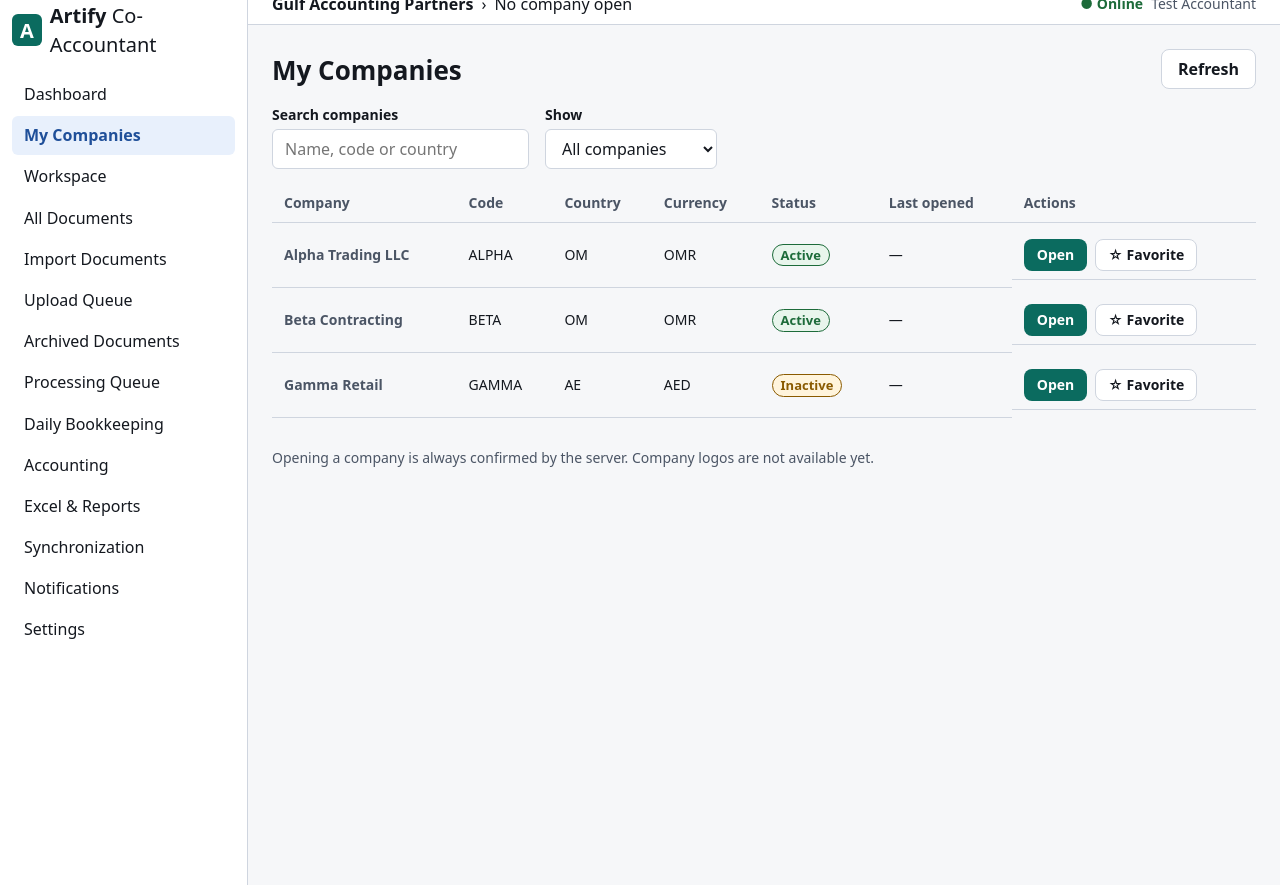
Test: accounting (Phase 8) › does not offer approval to the preparer and lets the server's refusal reach the screen
Click the button with aria-label "Open Alpha Trading LLC".
click(1056, 255)  # box [1024,239,1087,271]
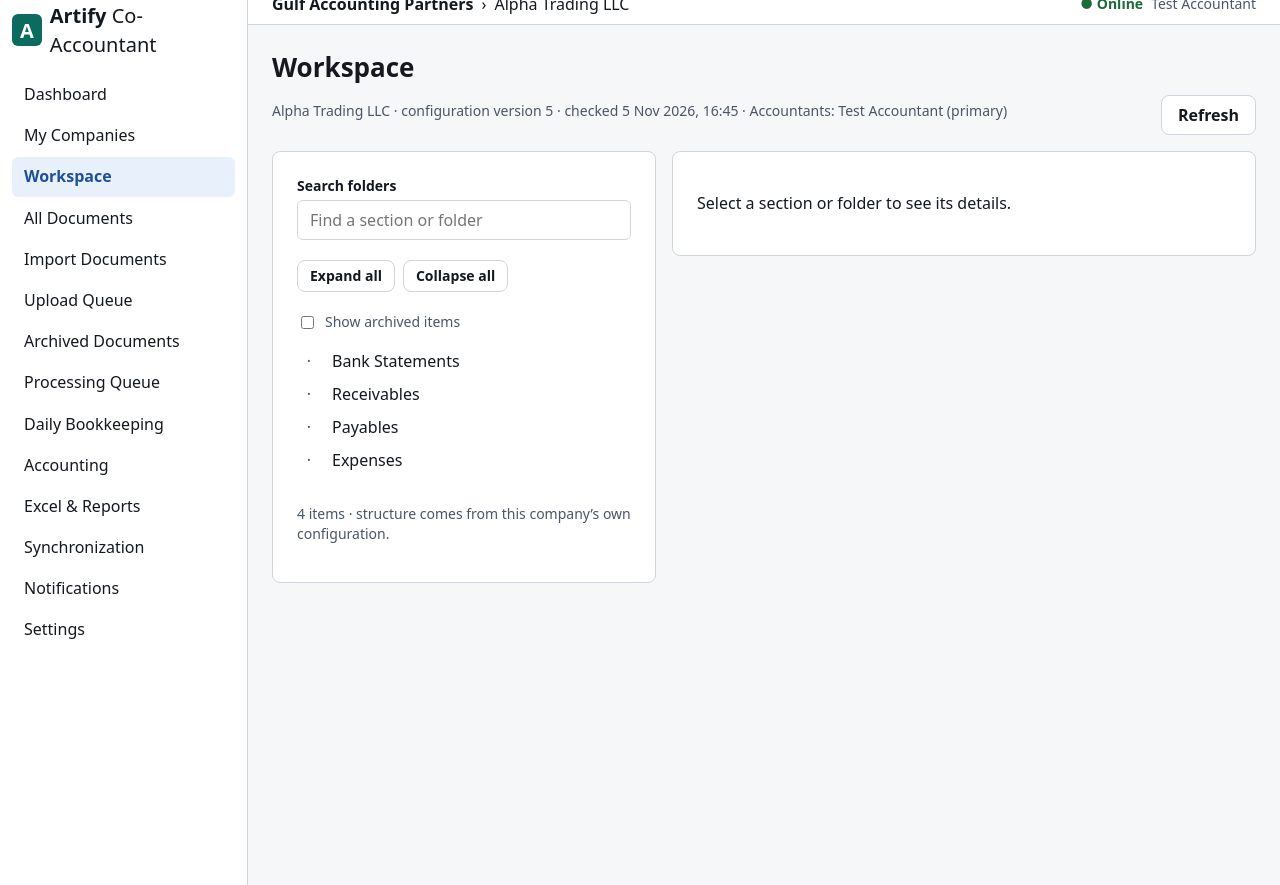
Expected: the heading "Workspace" is shown, [272,49,414,85]
Click the button "Accounting".
click(124, 465)  # box [12,446,235,485]
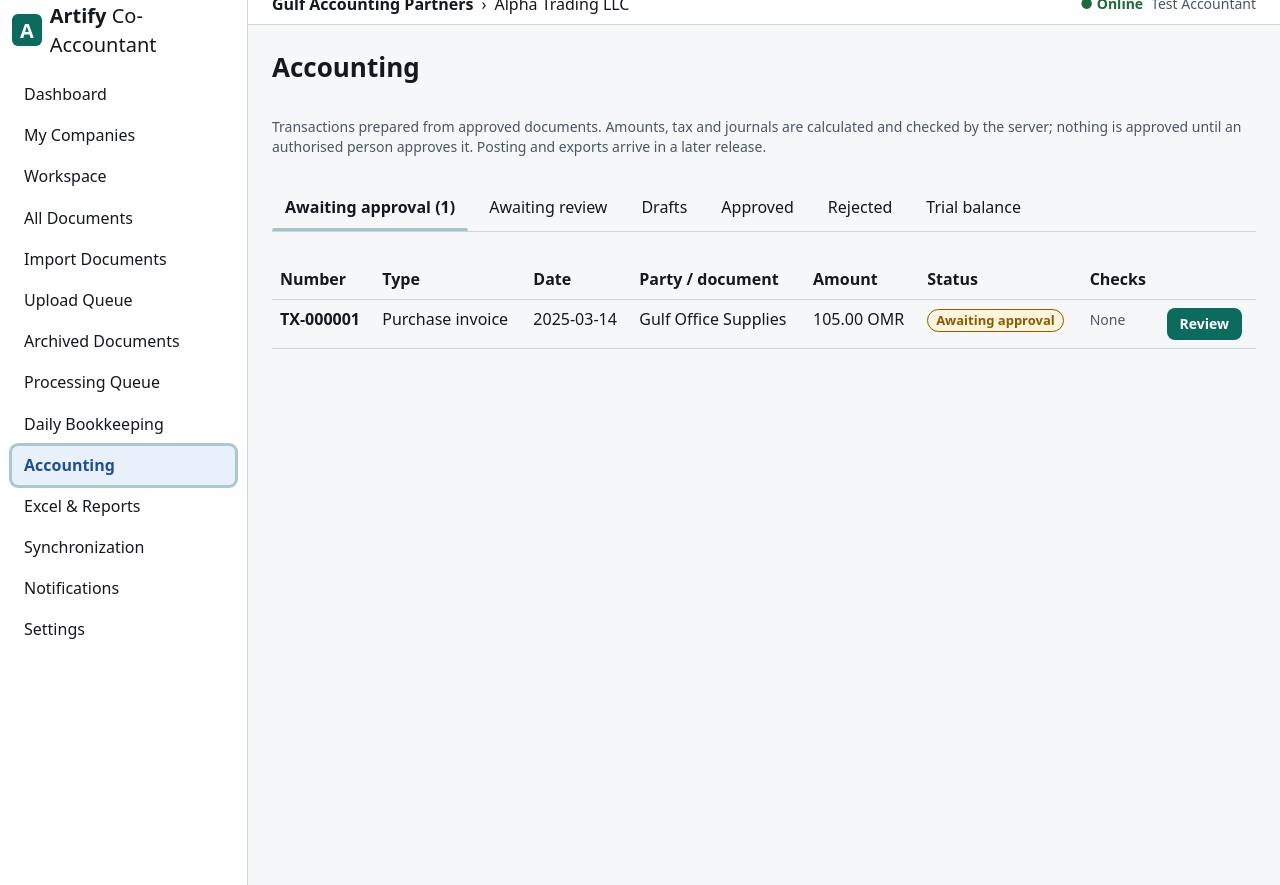
Click the button "Review".
click(1204, 324)  # box [1167,308,1242,340]
(page scrolled)
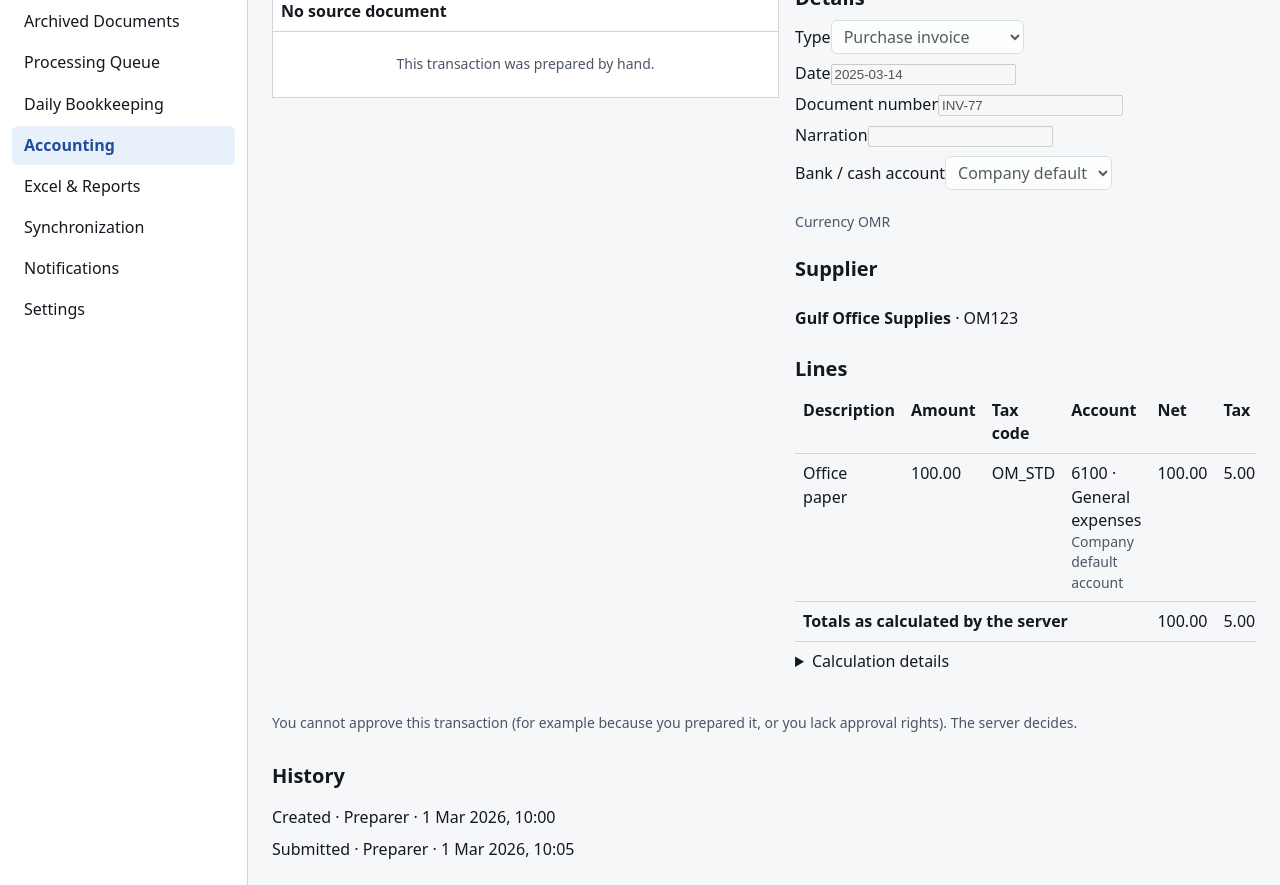
Expected: the text "You cannot approve this transaction" is shown, [272,713,1077,732]
